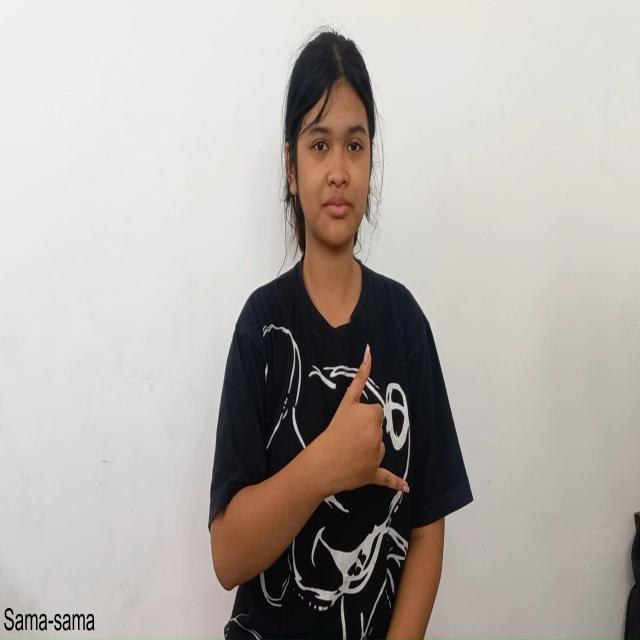Sama-sama -BISINDO-: (315, 333, 413, 529)
